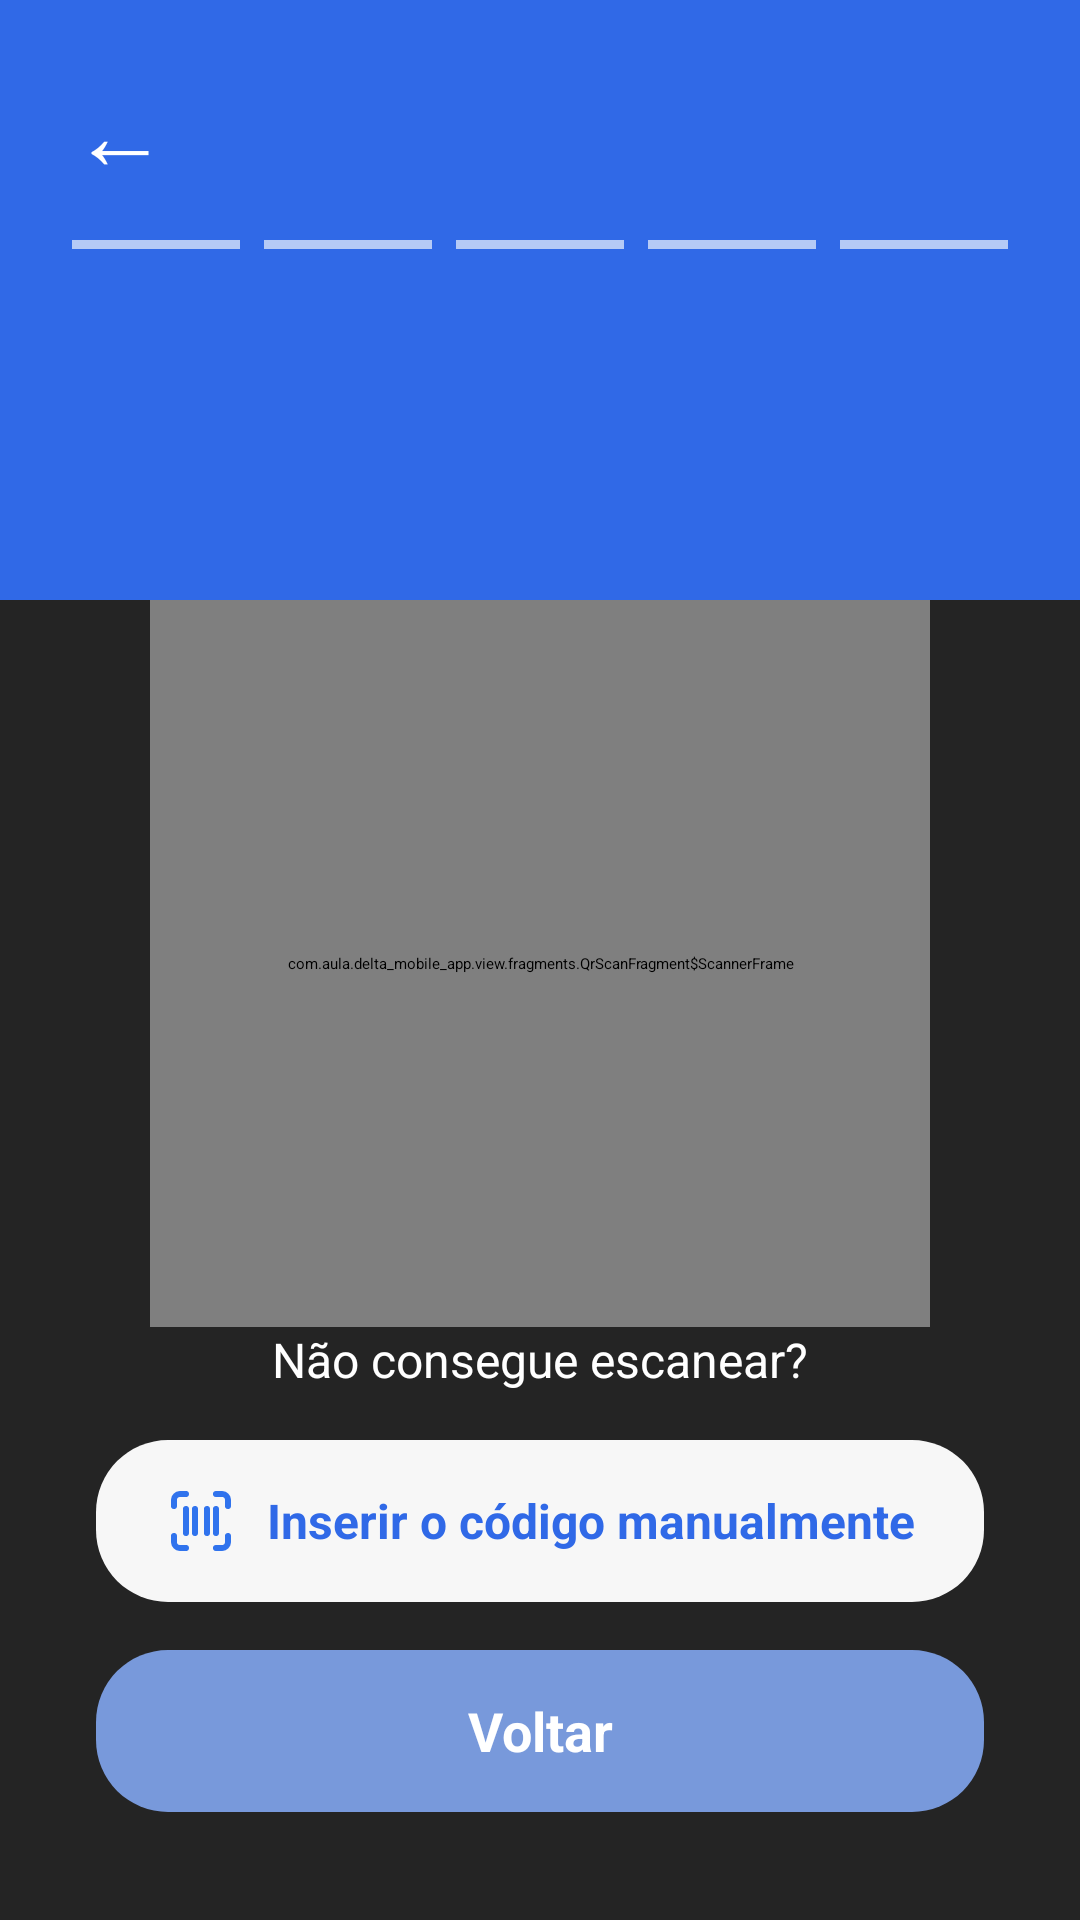

Icons on this 1080 x 1920 Android screen, each with its box as [x1, y1, x2, y2]:
barcode scan: [171, 1491, 231, 1551]
